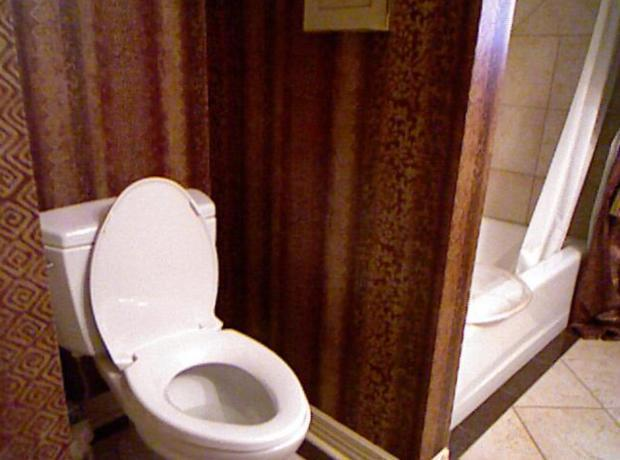Sanitario: (34, 173, 314, 458)
